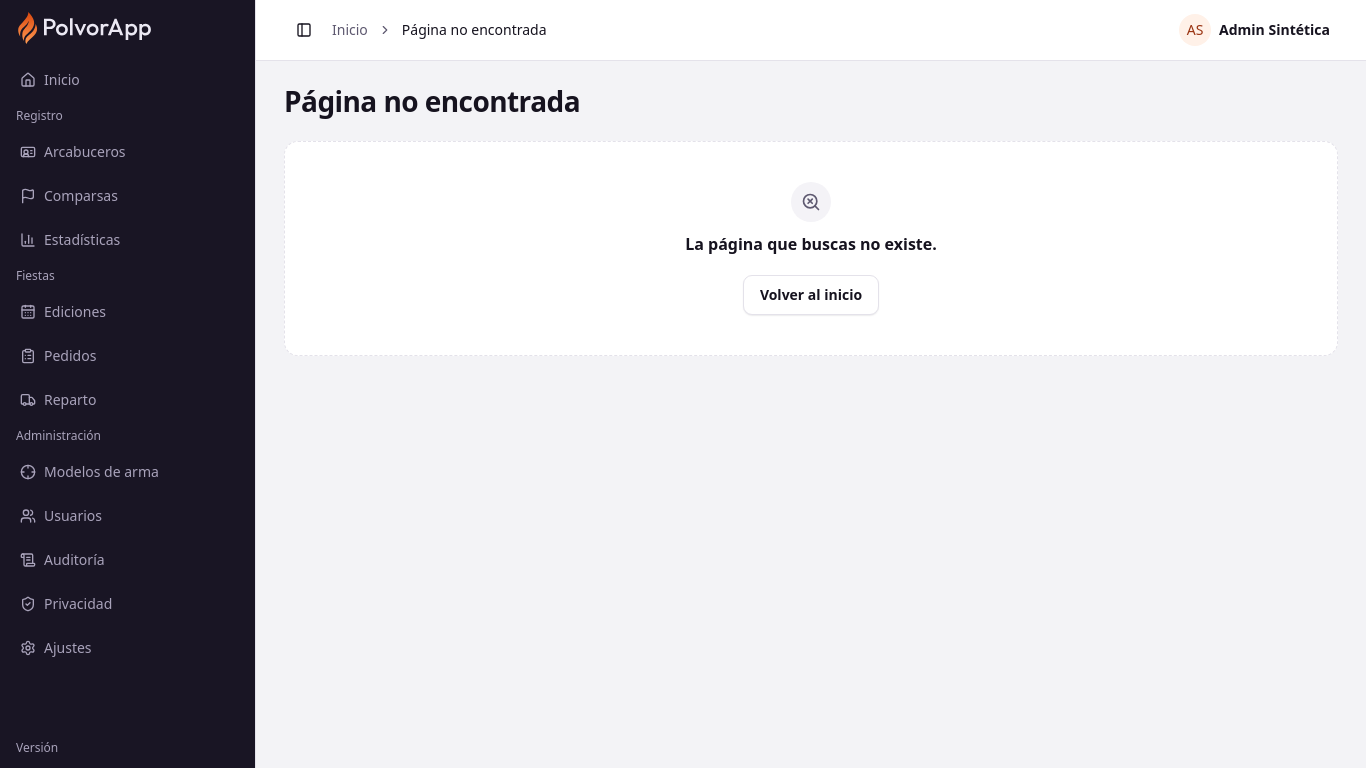
route behaviour › moves focus to the main content after client-side navigation
Click the link "Volver al inicio".
click(811, 295)  # box [743,275,879,315]
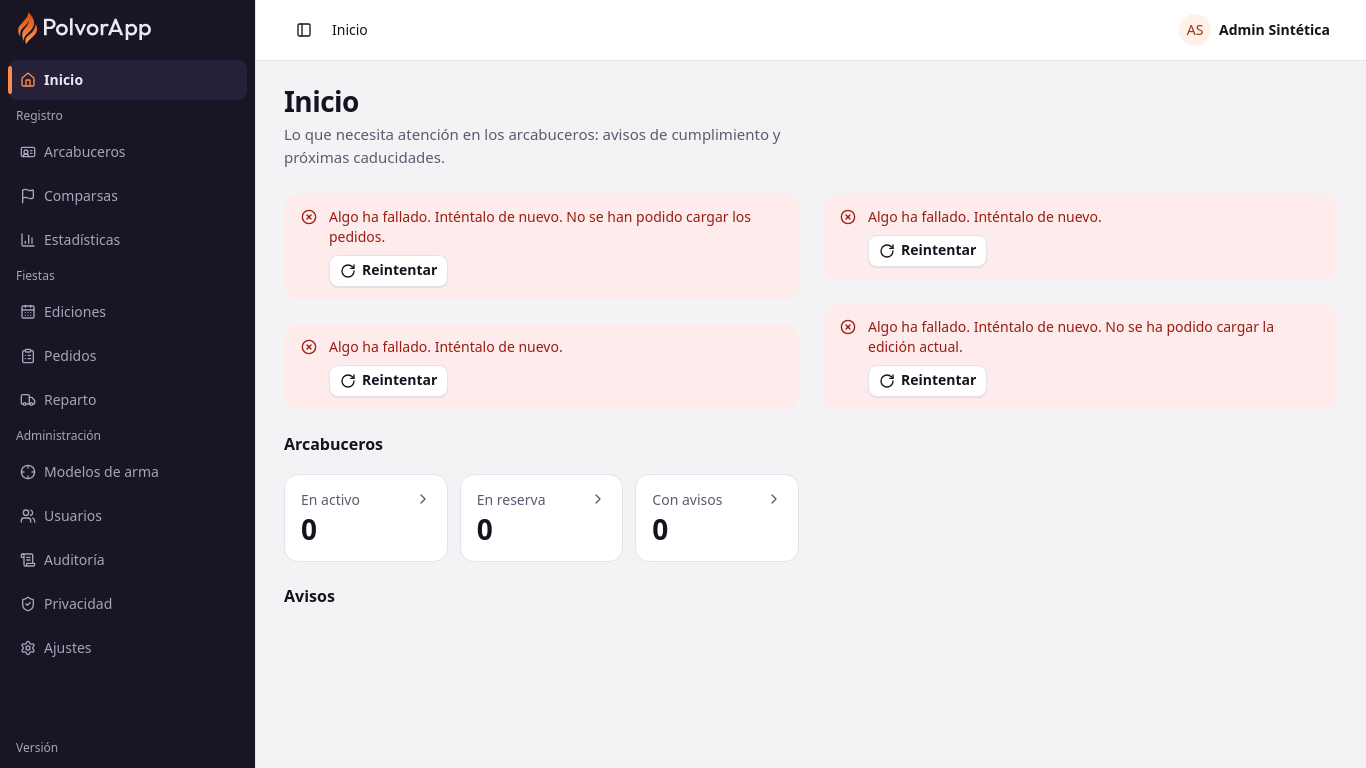
Expected: the heading "Inicio" is shown, [284,82,359,120]
